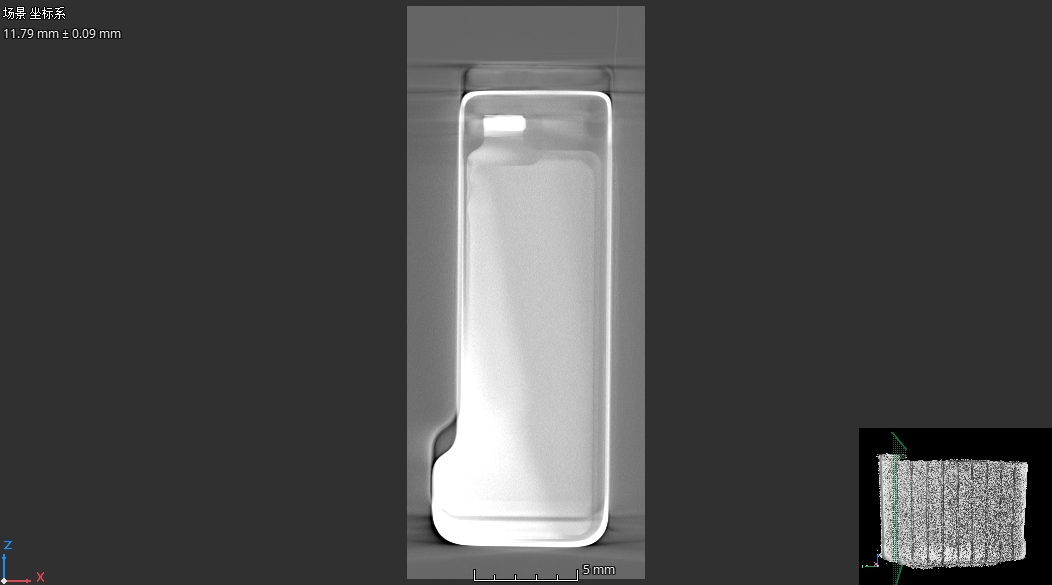damage: (464, 155, 478, 207)
